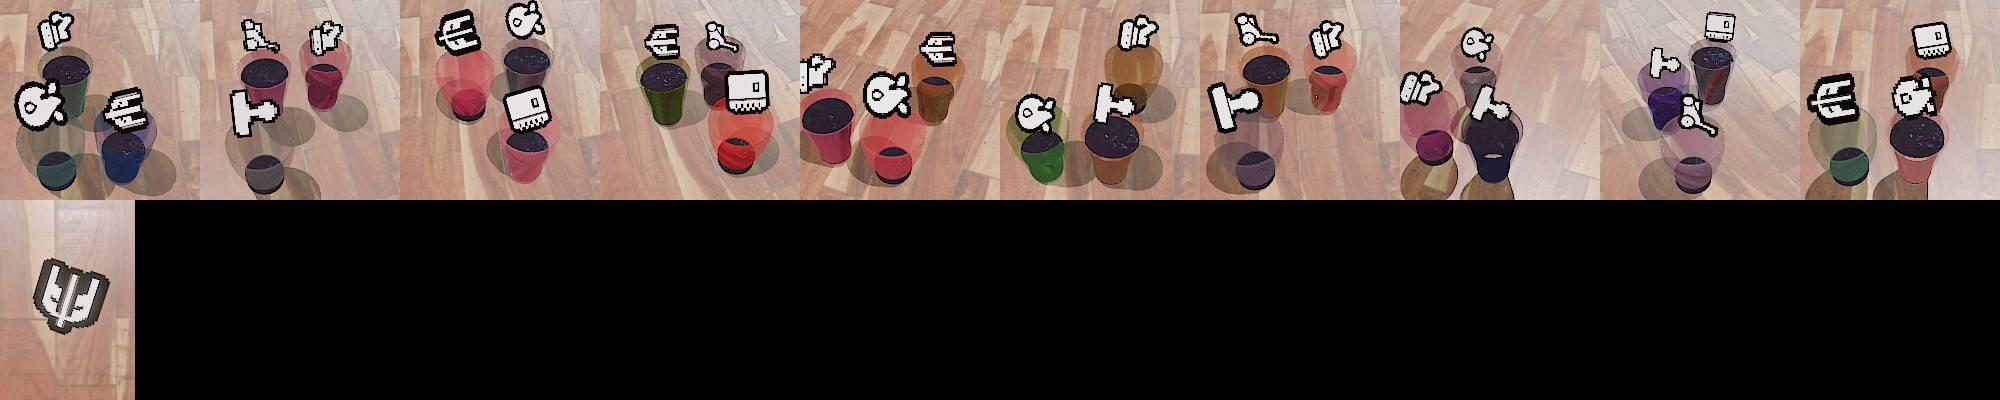icon: (29, 259, 112, 338), (1209, 79, 1261, 132), (14, 80, 68, 132), (1807, 73, 1858, 126), (230, 88, 281, 138), (434, 8, 482, 56), (864, 70, 911, 118), (1092, 80, 1140, 127), (503, 84, 551, 131), (102, 87, 151, 131), (1893, 74, 1939, 118), (726, 69, 769, 113), (1677, 90, 1719, 136), (1015, 93, 1059, 134), (1469, 88, 1518, 122), (1912, 22, 1953, 62), (1117, 13, 1159, 51), (1235, 13, 1278, 50), (1399, 69, 1444, 104), (798, 52, 837, 93), (37, 10, 75, 51), (1309, 18, 1346, 60), (505, 0, 545, 38), (240, 19, 281, 55), (918, 31, 958, 65), (644, 23, 681, 59), (704, 20, 741, 55), (310, 19, 344, 56), (1460, 27, 1495, 62), (1647, 46, 1681, 80), (1704, 11, 1737, 43)
